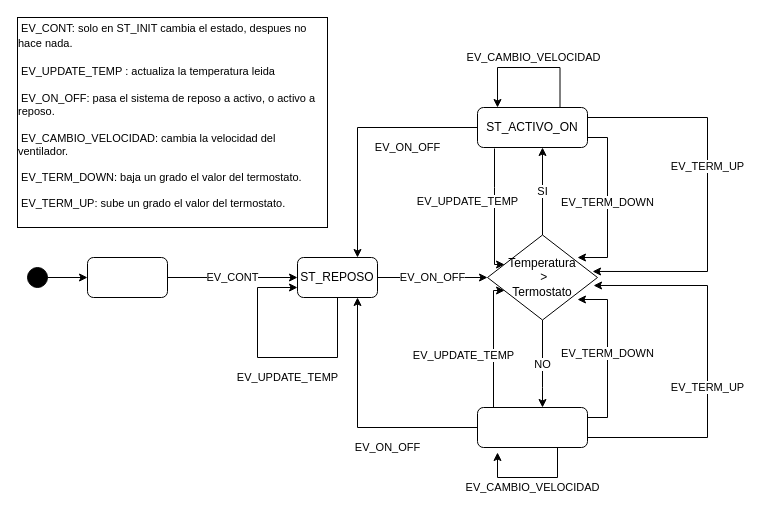
This 761x511 diagram has some shape labels left out. Here are the shapes that lost their labels. From the top down, the centre of each, then its label:
pixel 127 277: ST_INIT
pixel 532 427: ST_ACTIVO_OFF
